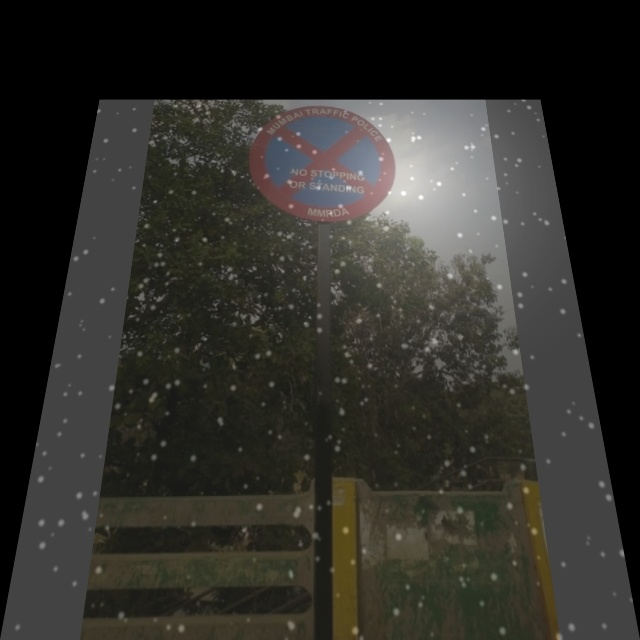No_Stopping_or_Standing: (246, 103, 405, 229)
